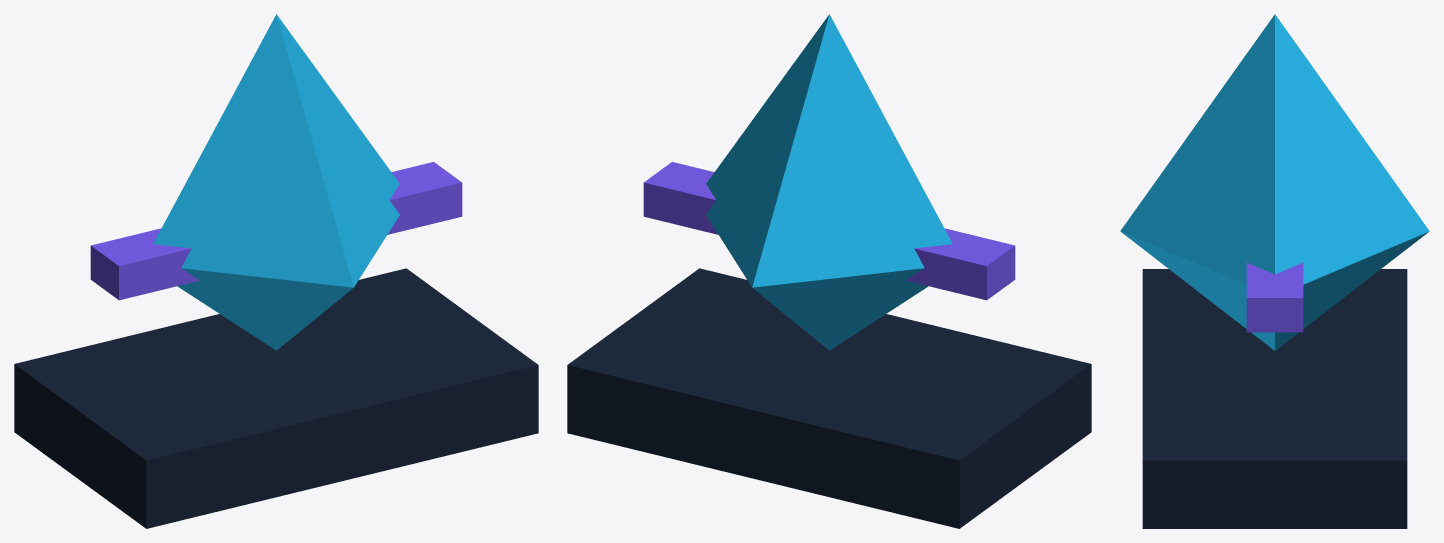
The model's file is model-viewer.obj.
3 renders of one model, left to right at view 1: azimuth 30°, elevation 25°; view 2: azimuth 150°, elevation 25°; view 3: azimuth 270°, elevation 25°, orthographic.
Visible parts, largest first — view 1: pedestal, crystal, orbit_band; view 2: pedestal, crystal, orbit_band; view 3: pedestal, crystal, orbit_band.
Part boxes in pixels (<box>): pedestal: <box>14,268,538,528</box>; crystal: <box>153,14,399,350</box>; orbit_band: <box>90,162,462,300</box>; pedestal: <box>567,268,1091,528</box>; crystal: <box>706,14,952,350</box>; orbit_band: <box>643,162,1015,300</box>; pedestal: <box>1142,269,1407,528</box>; crystal: <box>1120,14,1429,350</box>; orbit_band: <box>1246,263,1303,332</box>.
Bounding box in the file's own units: 2.4 × 2.45 × 1.64.
